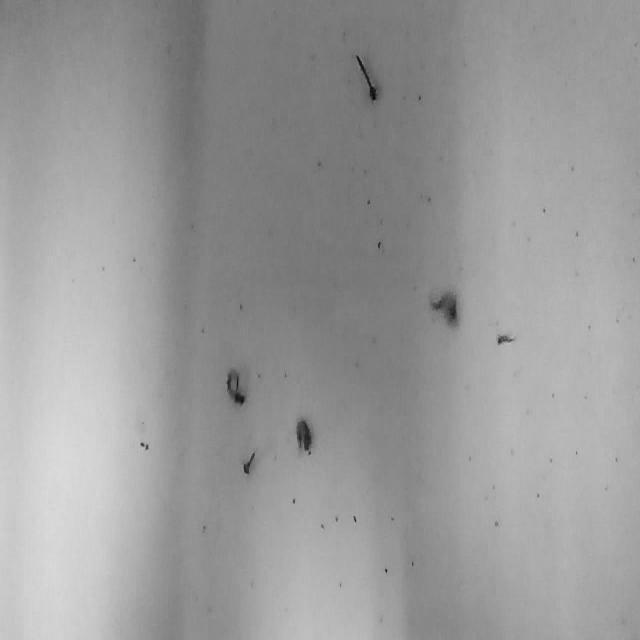larvas: (354, 51, 378, 105), (430, 292, 458, 322), (226, 367, 244, 405), (296, 418, 310, 450), (242, 450, 255, 474), (496, 332, 516, 345)
